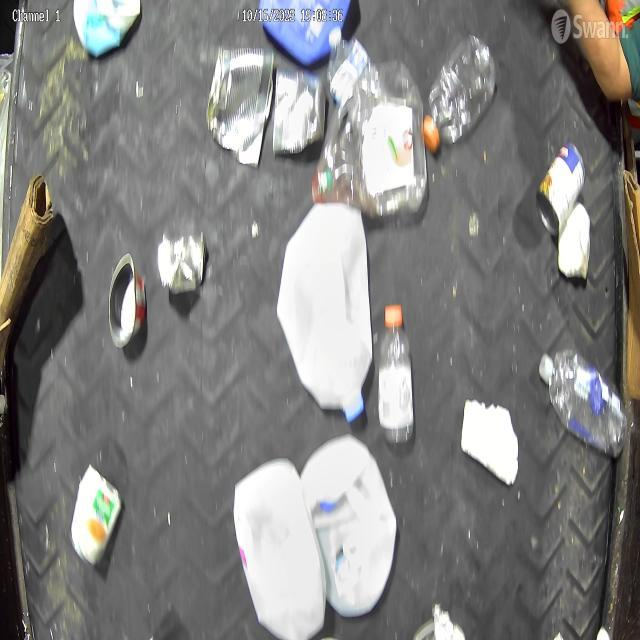can: (206, 44, 276, 168), (274, 60, 328, 160), (535, 140, 588, 234), (105, 249, 148, 359), (156, 224, 209, 296)
milk_jug: (277, 201, 376, 426), (304, 430, 401, 620), (231, 453, 329, 640)
non_white_jug: (314, 59, 432, 221), (257, 0, 353, 66)
plastic_bottle: (536, 344, 626, 460), (422, 30, 497, 157), (375, 300, 416, 448), (326, 26, 374, 104)
